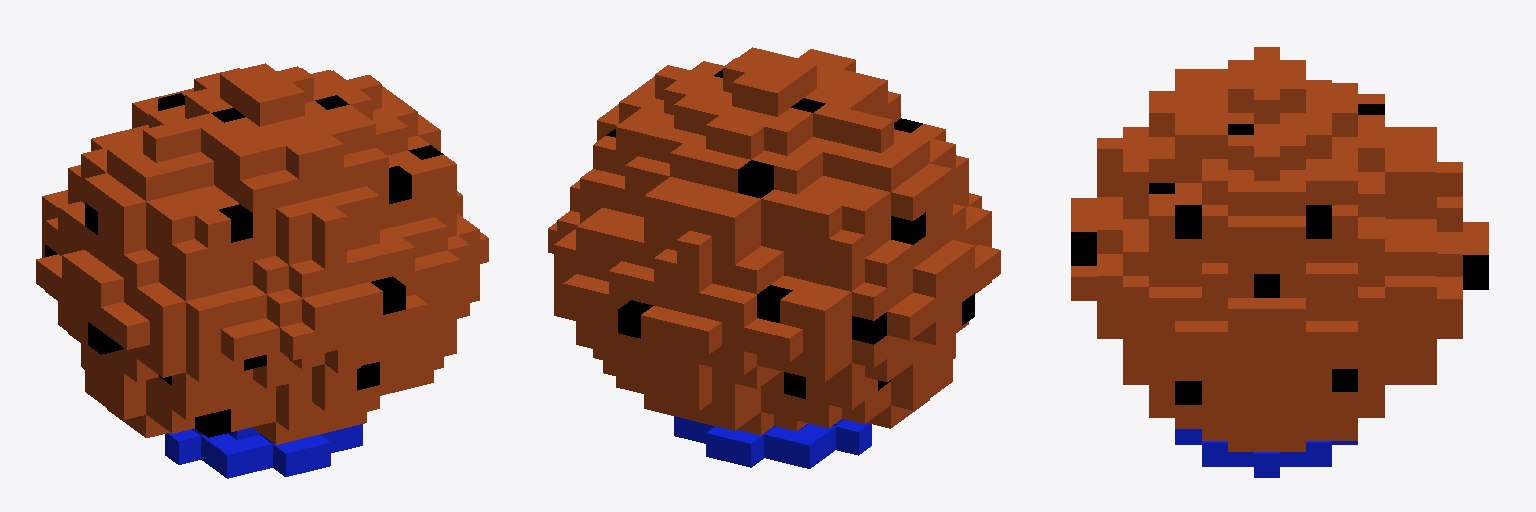
The picture shows the model from 3 angles: view 1: azimuth 30°, elevation 25°; view 2: azimuth 150°, elevation 25°; view 3: azimuth 270°, elevation 25°; orthographic projection.
Visible parts, largest first — view 1: object 1; view 2: object 1; view 3: object 1.
Boxes of the visible parts, <box> form: object 1: <box>36,63,488,478</box>; object 1: <box>548,47,1000,468</box>; object 1: <box>1071,47,1488,477</box>.
Bounding box in the file's own units: 1.6 × 1.5 × 1.6.
1 materials, 1 textured.